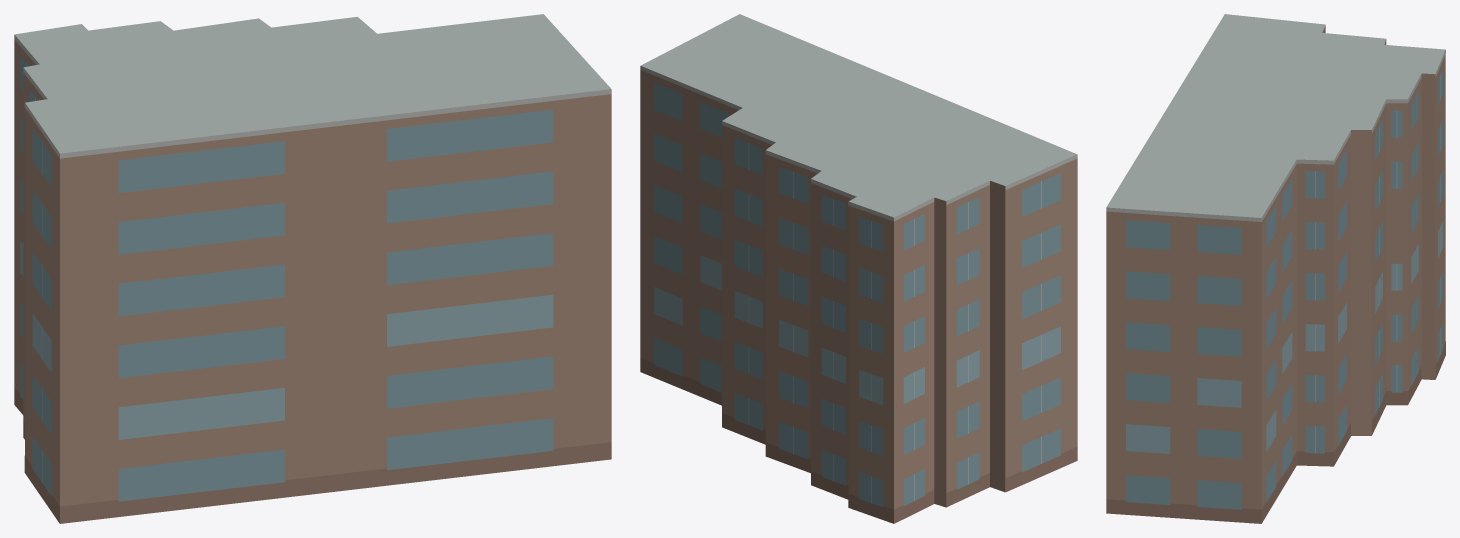
Rendered from survey-upis-32710945.glb.
3 views of the same model, side by side, from view 1: azimuth 30°, elevation 25°; view 2: azimuth 150°, elevation 25°; view 3: azimuth 270°, elevation 25° (orthographic). The views are drawn at different scales.
Parts seen in each view (by area): view 1: survey-upis-32710945.tmp; view 2: survey-upis-32710945.tmp; view 3: survey-upis-32710945.tmp.
Boxes of the visible parts, box(x1,y1,x2,y2) form: survey-upis-32710945.tmp: box(14, 14, 611, 523); survey-upis-32710945.tmp: box(640, 14, 1077, 523); survey-upis-32710945.tmp: box(1106, 14, 1445, 523).
Size of the model in its own units: 26.33 by 18.4 by 18.52.
